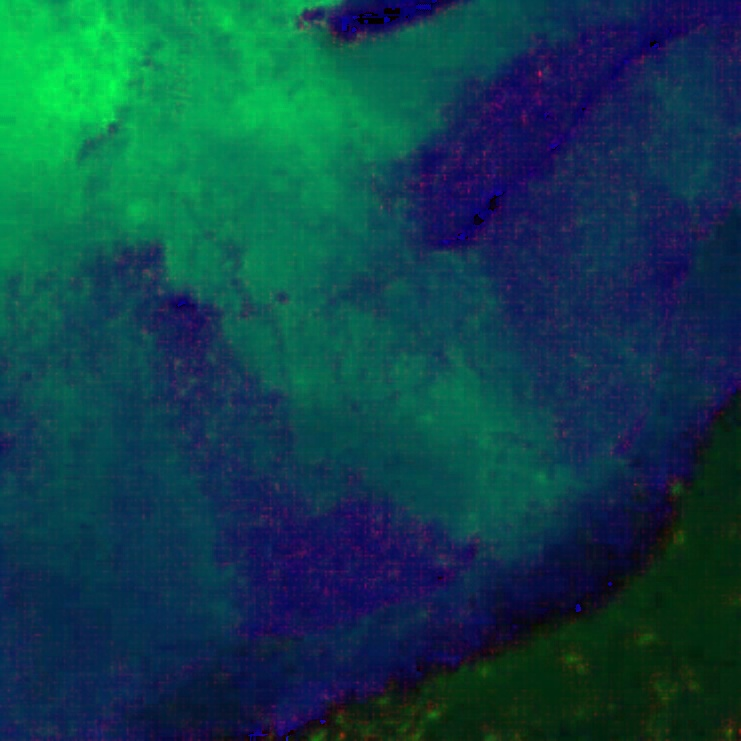rip_current: (132, 112, 593, 571)
